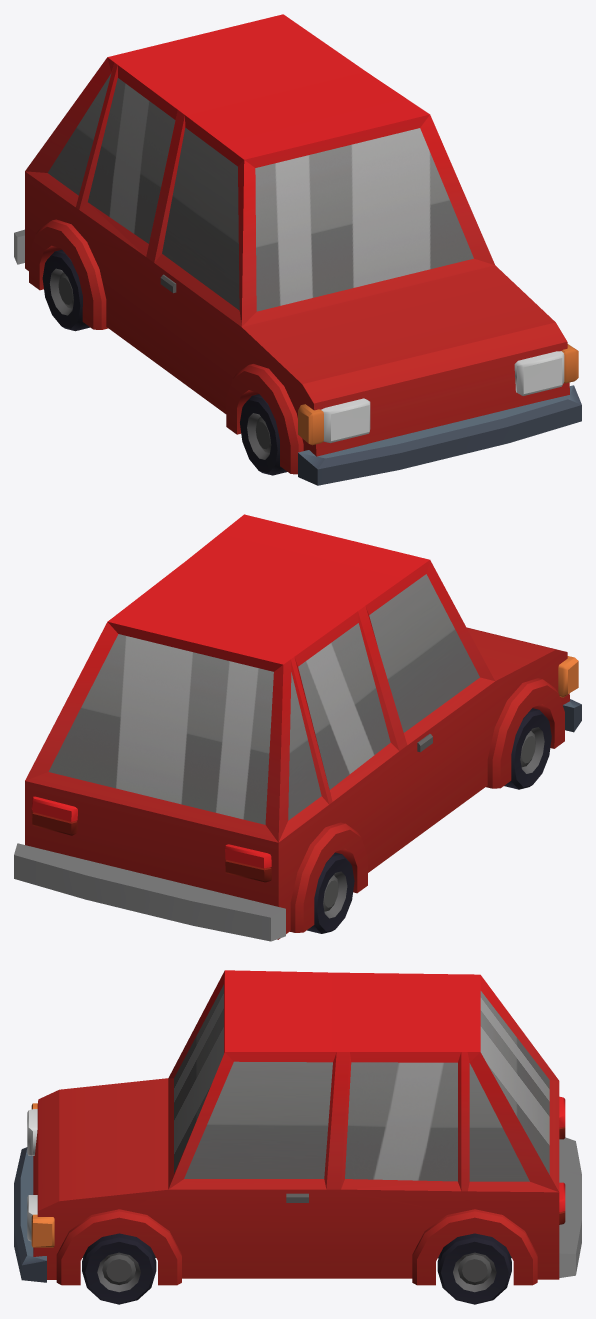
Rendered from Car_1_4.glb.
The picture shows the model from 3 angles, top to bottom: view 1: azimuth 30°, elevation 25°; view 2: azimuth 150°, elevation 25°; view 3: azimuth 270°, elevation 25°; orthographic projection. The views are drawn at different scales.
Parts seen in each view (by area): view 1: Car_1_4, Wheel_Br, Wheel_Fr; view 2: Car_1_4, Wheel_Fr, Wheel_Br; view 3: Car_1_4, Wheel_Fl, Wheel_Bl.
Boxes of the visible parts, box(x1,y1,x2,y2) form: Car_1_4: box(14, 14, 581, 485); Wheel_Br: box(42, 249, 89, 331); Wheel_Fr: box(240, 394, 287, 475); Car_1_4: box(14, 514, 581, 941); Wheel_Fr: box(504, 708, 551, 789); Wheel_Br: box(307, 852, 354, 933); Car_1_4: box(14, 970, 581, 1285); Wheel_Fl: box(82, 1233, 156, 1304); Wheel_Bl: box(437, 1233, 511, 1304).
Size of the model in its own units: 1.05 by 0.9433 by 2.07.
Materials: 4 (4 with a texture image).
